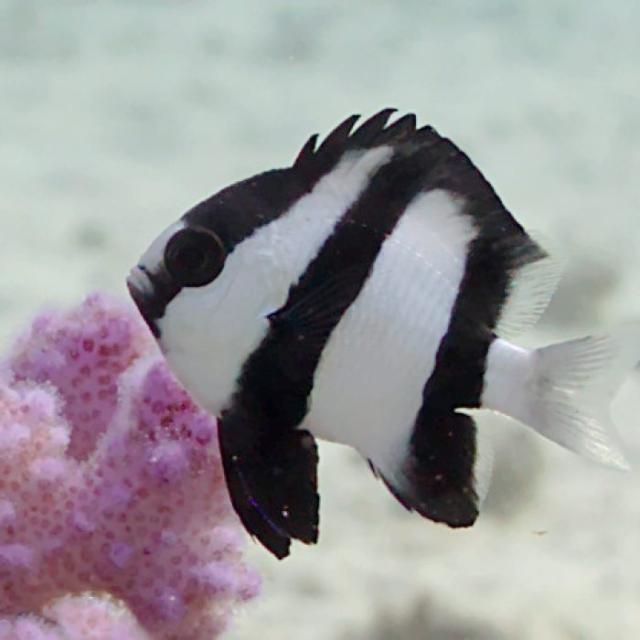ThreeStripedDamselfish: (125, 109, 640, 563)
